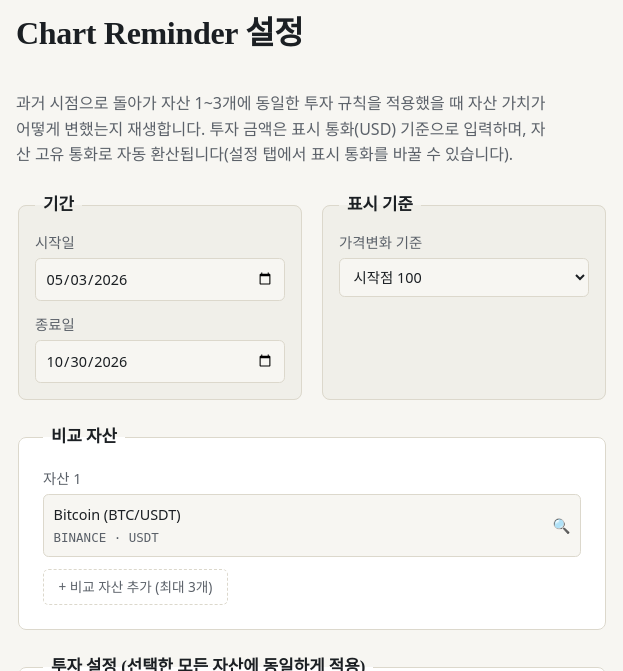
Test: SessionSetupForm › 자산 제거 버튼으로 1개까지 줄일 수 있다
Click the button "+ 비교 자산 추가 (최대 3개)" at (135, 587), box [43, 569, 228, 605]
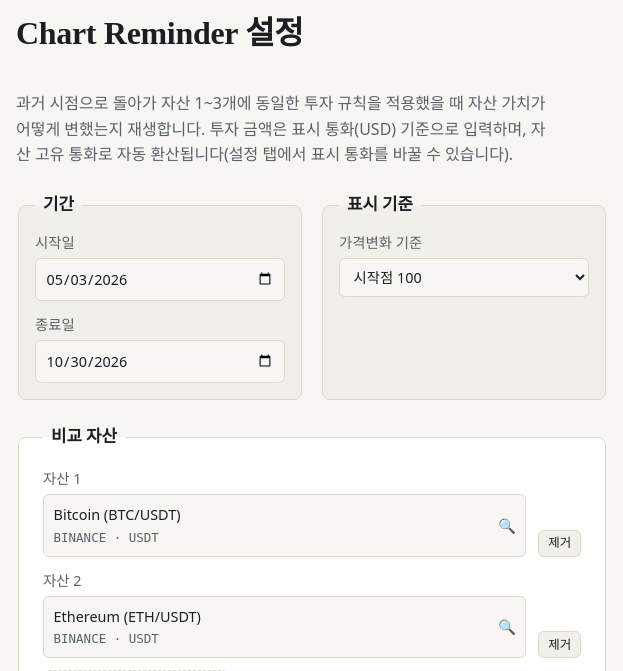
Now the button with aria-label "자산 2" is shown, box [43, 596, 526, 658]
Click the button with aria-label "자산 2 제거" at (560, 645), box [538, 632, 581, 658]
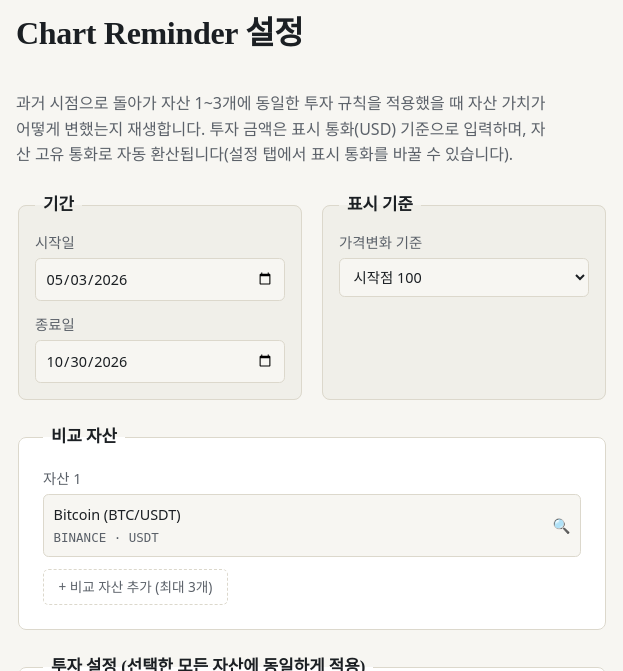
Now the label labelled "자산 2" is gone
